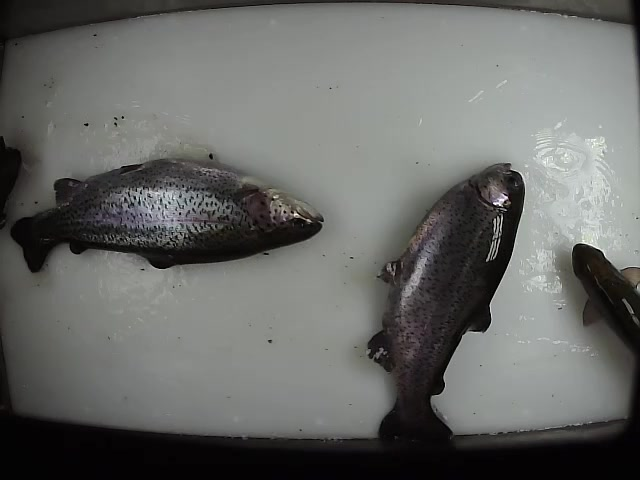fish: (363, 158, 529, 444), (10, 156, 326, 275), (570, 242, 640, 355)
